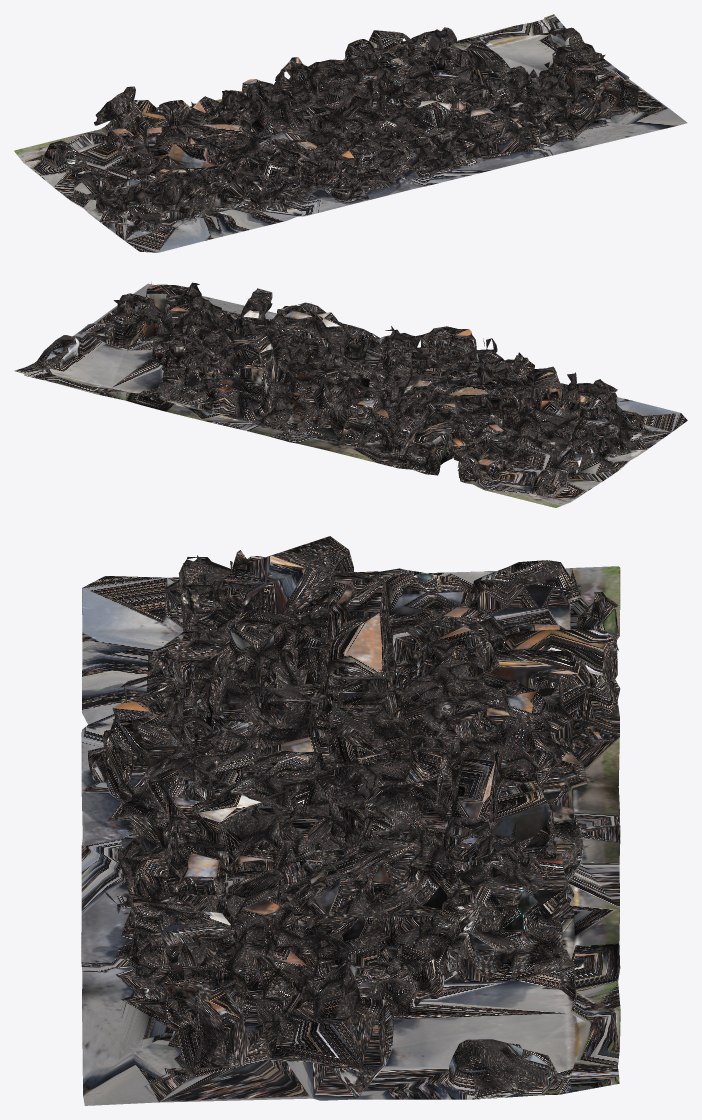
File: junkyard.glb
3 views of the same model, one above another, from view 1: azimuth 30°, elevation 25°; view 2: azimuth 150°, elevation 25°; view 3: azimuth 270°, elevation 25° (orthographic). The views are drawn at different scales.
Bounding box in the file's own units: 60.52 × 7.54 × 26.
Materials: 1 (1 with a texture image).
